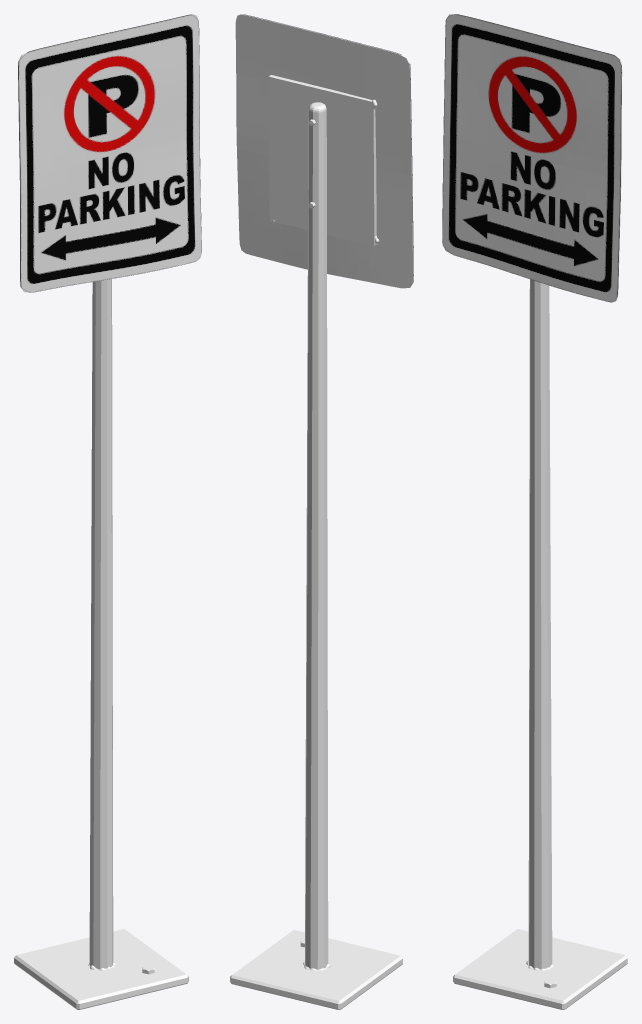
The model's file is noparkingsign.glb.
3 renders of one model, left to right at view 1: azimuth 30°, elevation 25°; view 2: azimuth 150°, elevation 25°; view 3: azimuth 330°, elevation 25°, orthographic.
Visible parts, largest first — view 1: 177d920ddde57c74f8e1ef18863ab511, Cylinder, Plane; view 2: 177d920ddde57c74f8e1ef18863ab511, Cylinder, 177d920ddde57c74f8e1ef18863ab511.001, Plane; view 3: 177d920ddde57c74f8e1ef18863ab511, Cylinder, Plane.
Part boxes in pixels (x1,y1,x2,y2): 177d920ddde57c74f8e1ef18863ab511: [18, 14, 201, 292]; Cylinder: [89, 279, 113, 969]; Plane: [14, 929, 188, 1009]; 177d920ddde57c74f8e1ef18863ab511: [235, 14, 413, 288]; Cylinder: [305, 102, 328, 969]; 177d920ddde57c74f8e1ef18863ab511.001: [268, 75, 376, 246]; Plane: [230, 930, 402, 1009]; 177d920ddde57c74f8e1ef18863ab511: [442, 14, 622, 302]; Cylinder: [528, 279, 552, 969]; Plane: [453, 929, 627, 1009].
Bounding box in the file's own units: 0.4266 × 2.15 × 0.2676.
Materials: 3 (1 with a texture image).
